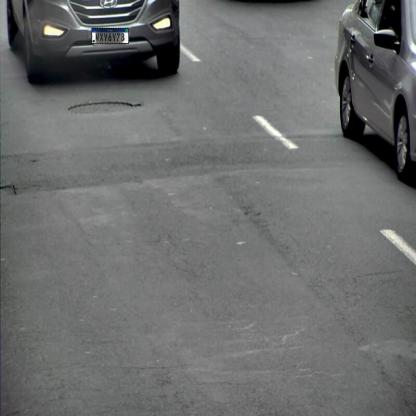PlacaM: (91, 28, 129, 44)
